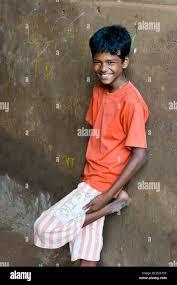Human: (39, 20, 147, 278)
